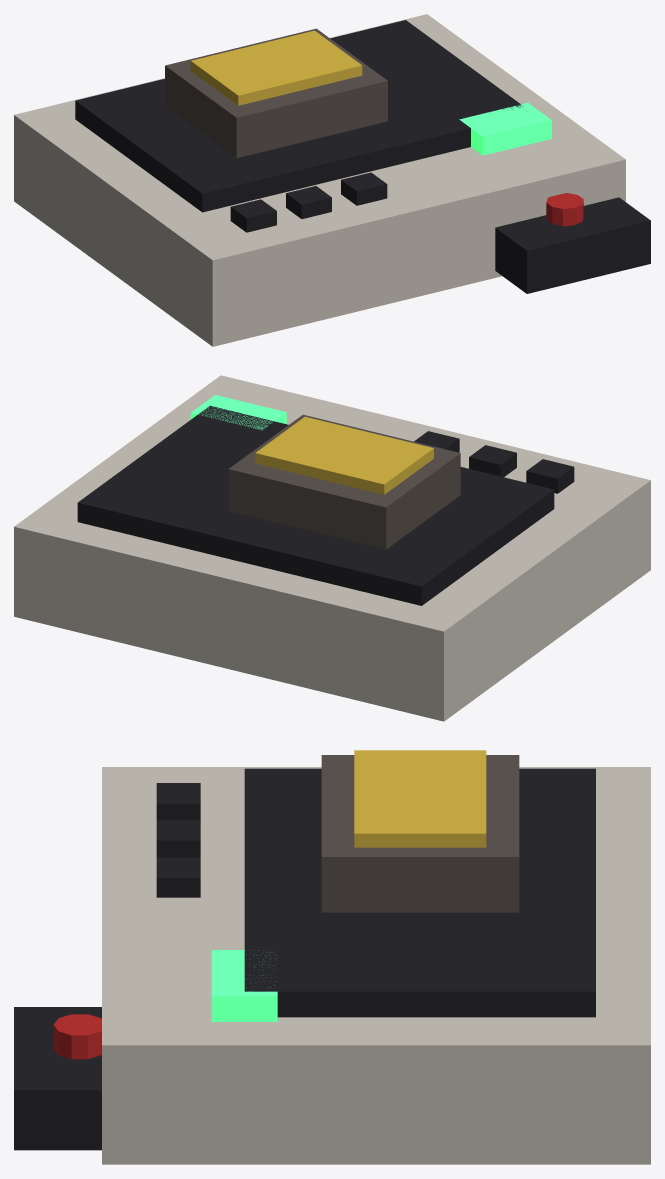
File: console.glb
The picture shows the model from 3 angles, top to bottom: view 1: azimuth 30°, elevation 25°; view 2: azimuth 150°, elevation 25°; view 3: azimuth 270°, elevation 25°; orthographic projection. The views are drawn at different scales.
Visible parts, largest first — view 1: console; view 2: console; view 3: console.
Boxes of the visible parts, x1=… form: console: x1=14, y1=14, x2=650, y2=346; console: x1=14, y1=375, x2=650, y2=721; console: x1=14, y1=750, x2=650, y2=1164.
Bounding box in the file's own units: 0.3 × 0.108 × 0.29.
